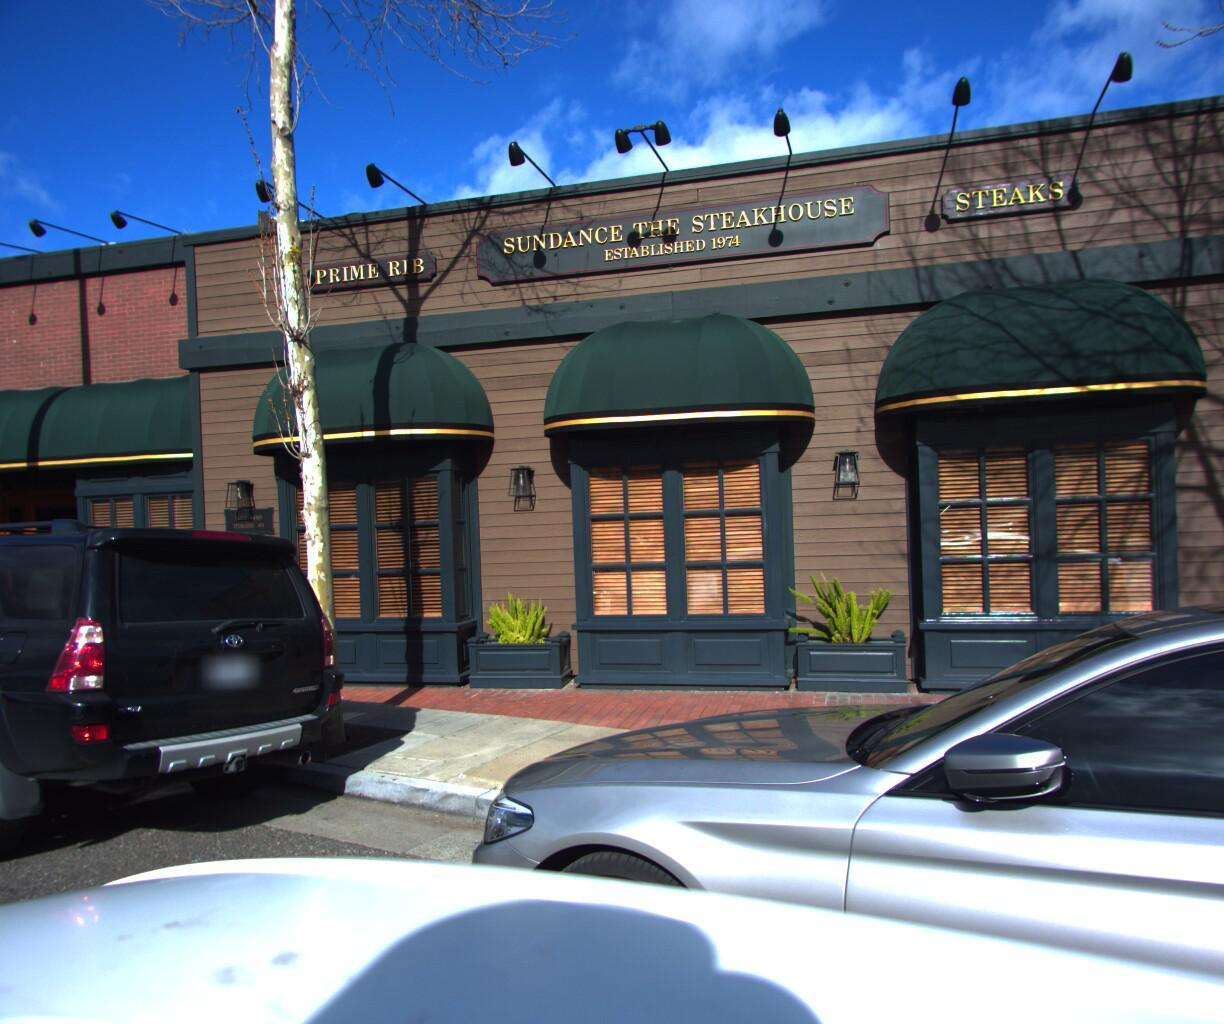car: (383, 557, 1224, 1024), (0, 516, 370, 910)
